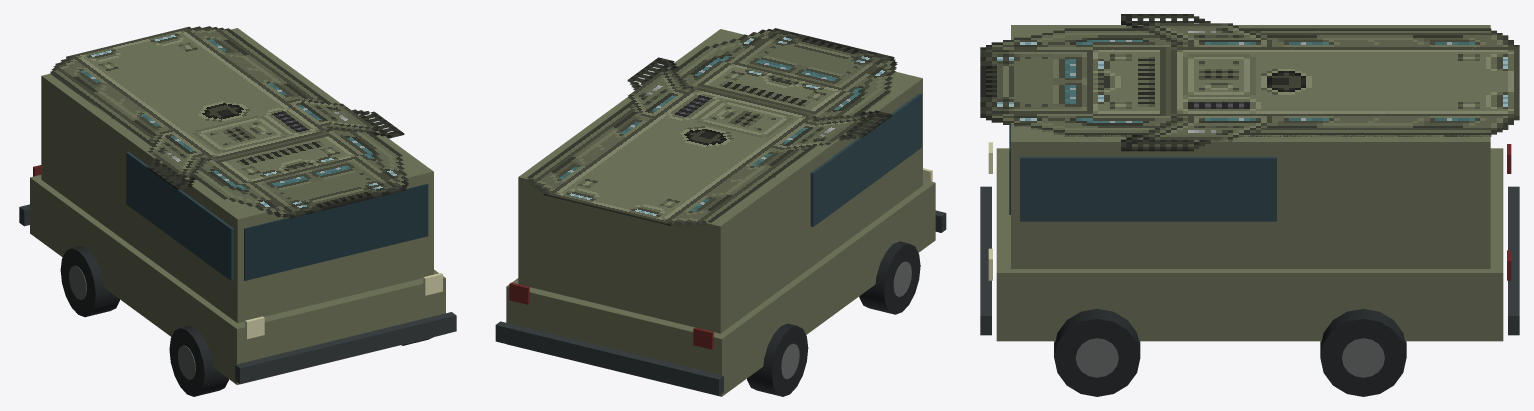
Rendered from CMU3DReduxVehicleSPPVanArmed.glb.
3 views of the same model, side by side, from view 1: azimuth 30°, elevation 25°; view 2: azimuth 150°, elevation 25°; view 3: azimuth 270°, elevation 25° (orthographic). The views are drawn at different scales.
Visible parts, largest first — view 1: source hull roof panel (×3), upper hull, closed lower chassis, cab windscreen, cab side window, front bumper, road tire (×2), wheel hub (×2); view 2: source hull roof panel (×3), upper hull, closed lower chassis, cab side window, rear bumper, road tire (×2), wheel hub (×2); view 3: source hull roof panel (×3), upper hull, closed lower chassis, cab side window, road tire (×2), wheel hub (×2), rear bumper, front bumper.
Part boxes in pixels (left/top/right/bottom): source hull roof panel (×3): left=50, top=26, right=408, bottom=218; upper hull: left=41, top=28, right=433, bottom=323; closed lower chassis: left=30, top=175, right=445, bottom=384; cab windscreen: left=244, top=184, right=428, bottom=280; cab side window: left=126, top=152, right=233, bottom=281; front bumper: left=235, top=312, right=456, bottom=383; road tire (×2): left=60, top=246, right=228, bottom=396; wheel hub (×2): left=69, top=265, right=195, bottom=379; source hull roof panel (×3): left=527, top=28, right=897, bottom=226; upper hull: left=518, top=29, right=922, bottom=333; closed lower chassis: left=506, top=179, right=935, bottom=396; cab side window: left=810, top=93, right=921, bottom=226; rear bumper: left=495, top=321, right=723, bottom=395; road tire (×2): left=747, top=241, right=920, bottom=396; wheel hub (×2): left=781, top=261, right=911, bottom=379; source hull roof panel (×3): left=980, top=14, right=1519, bottom=151; upper hull: left=1011, top=25, right=1490, bottom=268; closed lower chassis: left=996, top=148, right=1503, bottom=341; cab side window: left=1020, top=156, right=1276, bottom=221; road tire (×2): left=1054, top=308, right=1406, bottom=396; wheel hub (×2): left=1075, top=338, right=1384, bottom=377; rear bumper: left=1508, top=186, right=1519, bottom=335; front bumper: left=980, top=186, right=991, bottom=335.
Size of the model in its own units: 1.85 by 1.49 by 3.
Materials: 11 (3 with a texture image).
